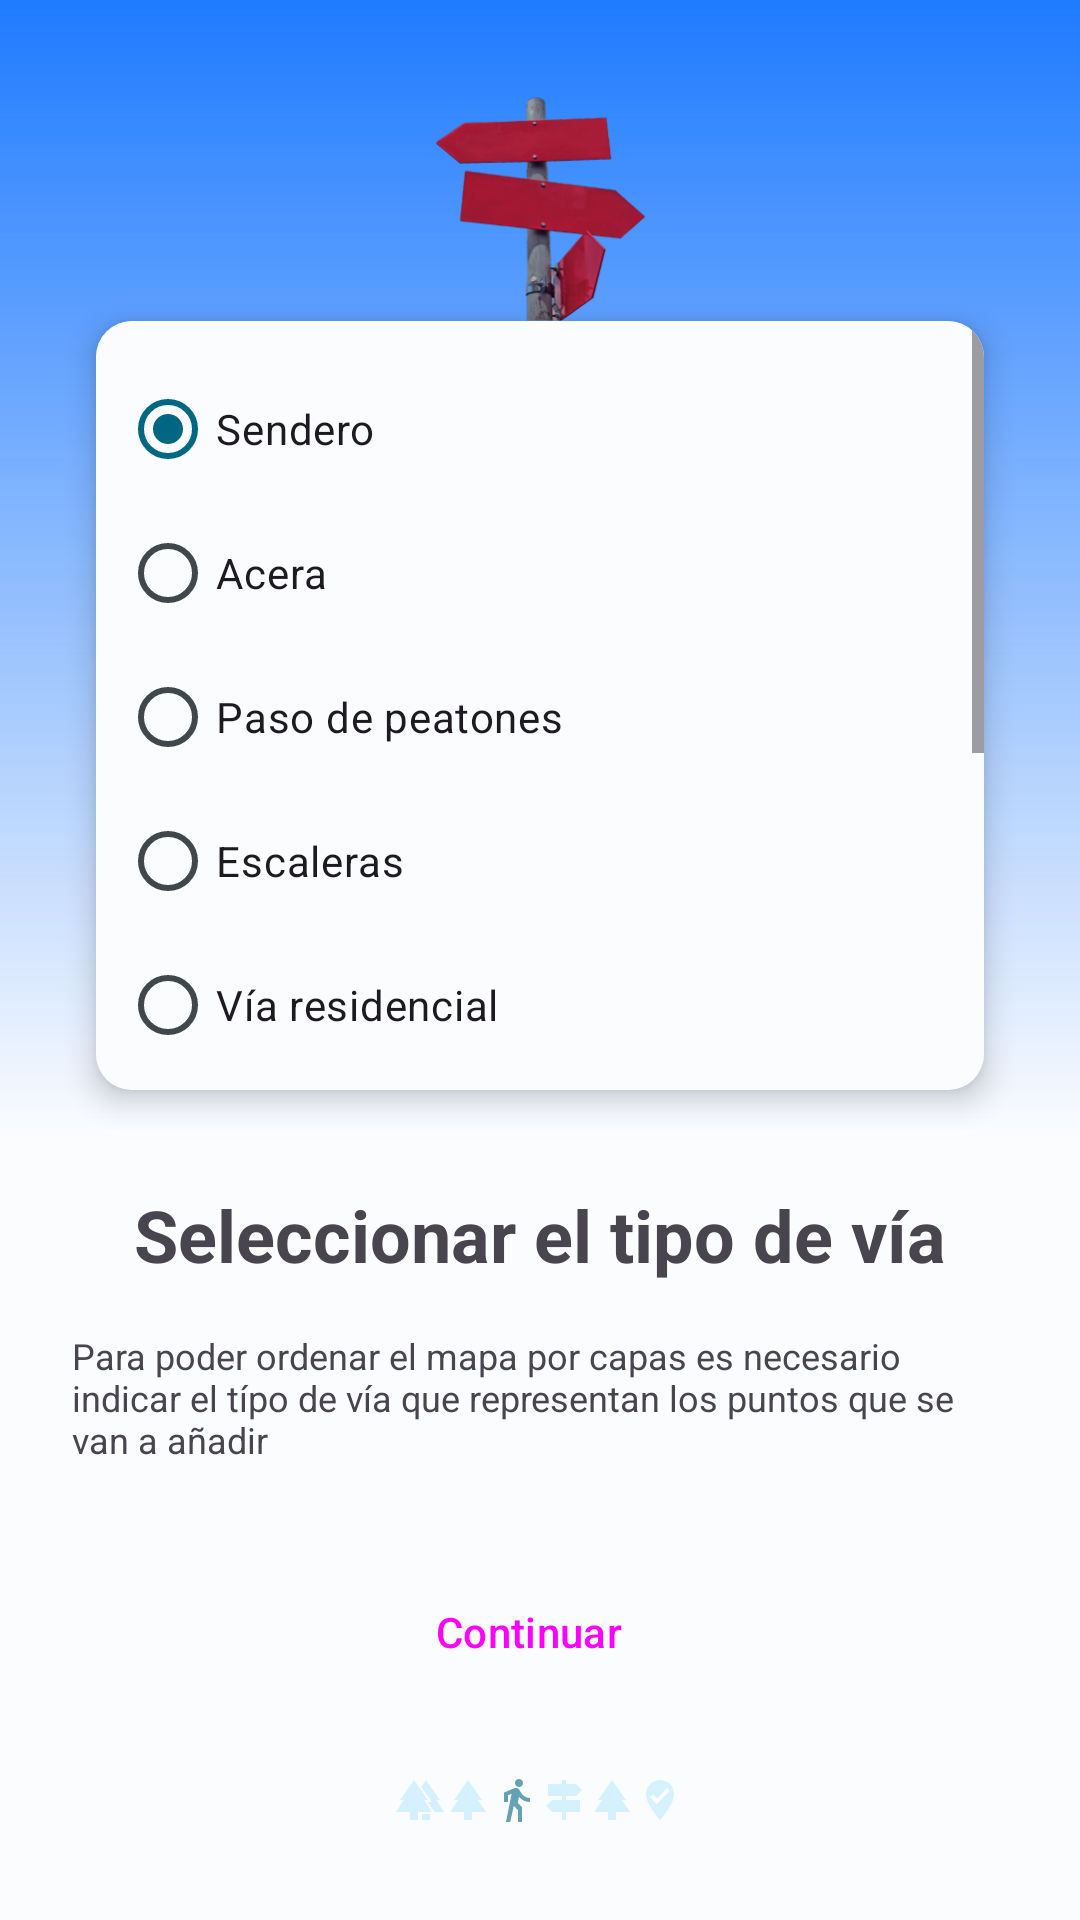

Icons on this 1080w x 1920h Android screen, each with the point to tap as point (x, y):
arbol: point (468, 1800), point (612, 1800)
bosque: point (420, 1800)
caminar: point (517, 1800)
destino: point (660, 1799)
senal: point (564, 1800)
